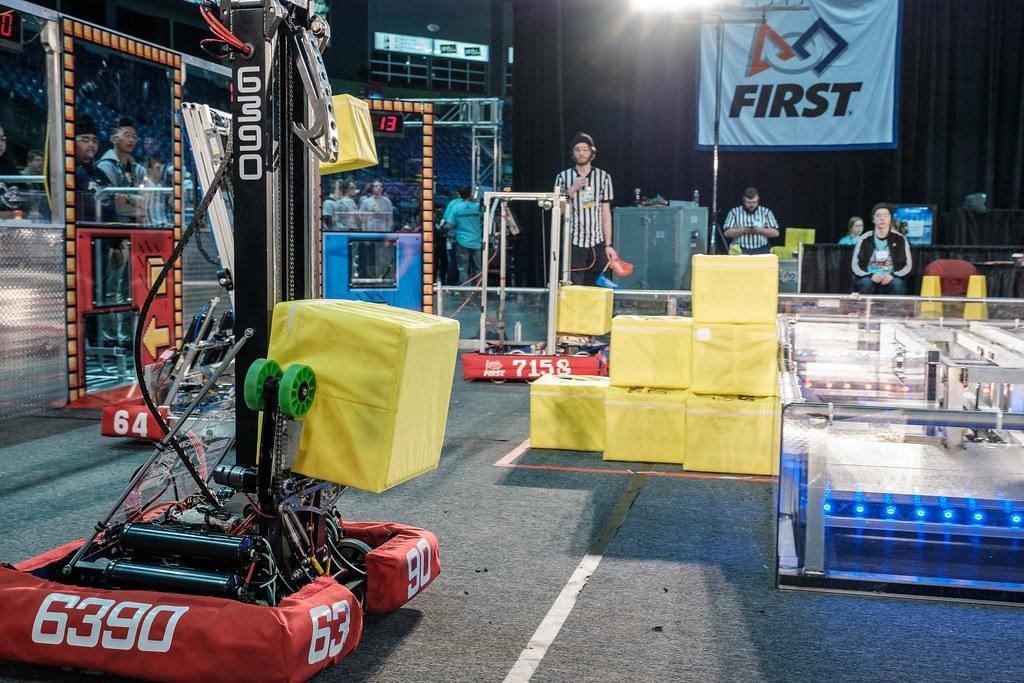robot: (0, 0, 450, 683)
